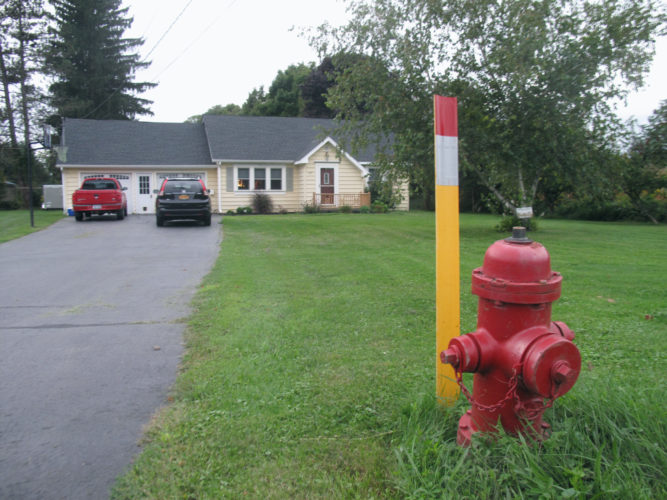bollard: (427, 92, 463, 340)
firehdyrant: (444, 234, 584, 452)
